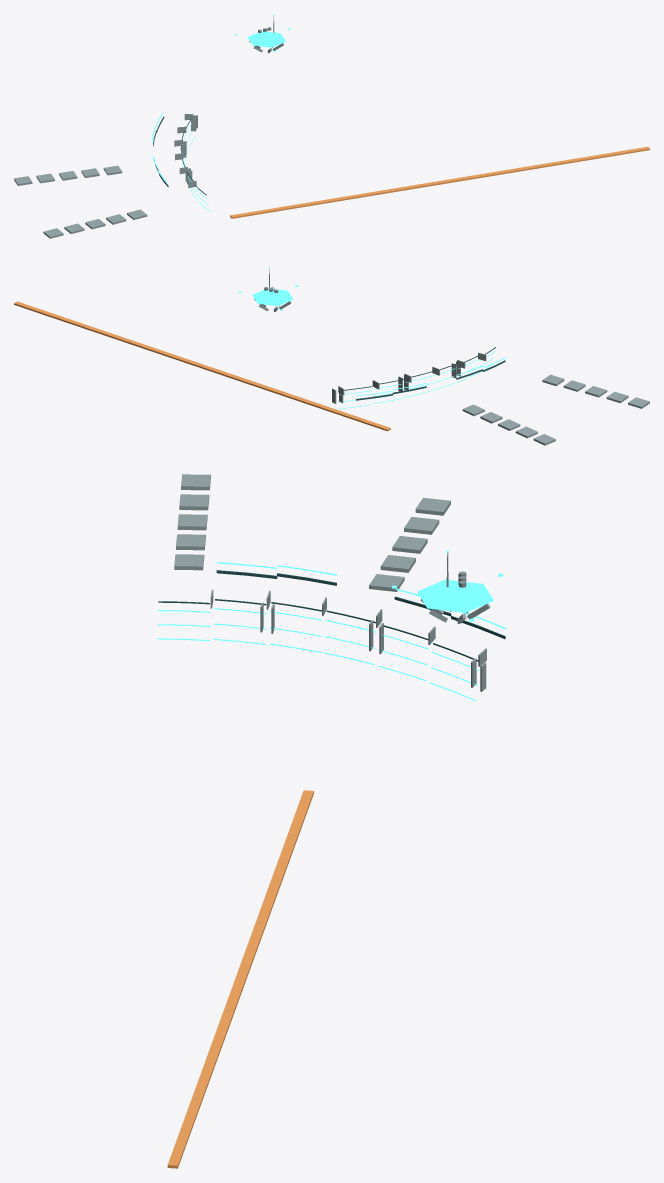
Rendered from Weather_Lung_Sector_05_Dressing.glb.
3 views of the same model, one above another, from view 1: azimuth 30°, elevation 25°; view 2: azimuth 150°, elevation 25°; view 3: azimuth 270°, elevation 25° (orthographic). The views are drawn at different scales.
Visible parts, largest first — view 1: Weather_Lung_Sector_05_Dressing; view 2: Weather_Lung_Sector_05_Dressing; view 3: Weather_Lung_Sector_05_Dressing.
Part boxes in pixels (bbox=[...]): Weather_Lung_Sector_05_Dressing: bbox=[14, 14, 649, 238]; Weather_Lung_Sector_05_Dressing: bbox=[14, 267, 649, 445]; Weather_Lung_Sector_05_Dressing: bbox=[157, 474, 506, 1168].
Bounding box in the file's own units: 11952 × 3047 × 3025.
